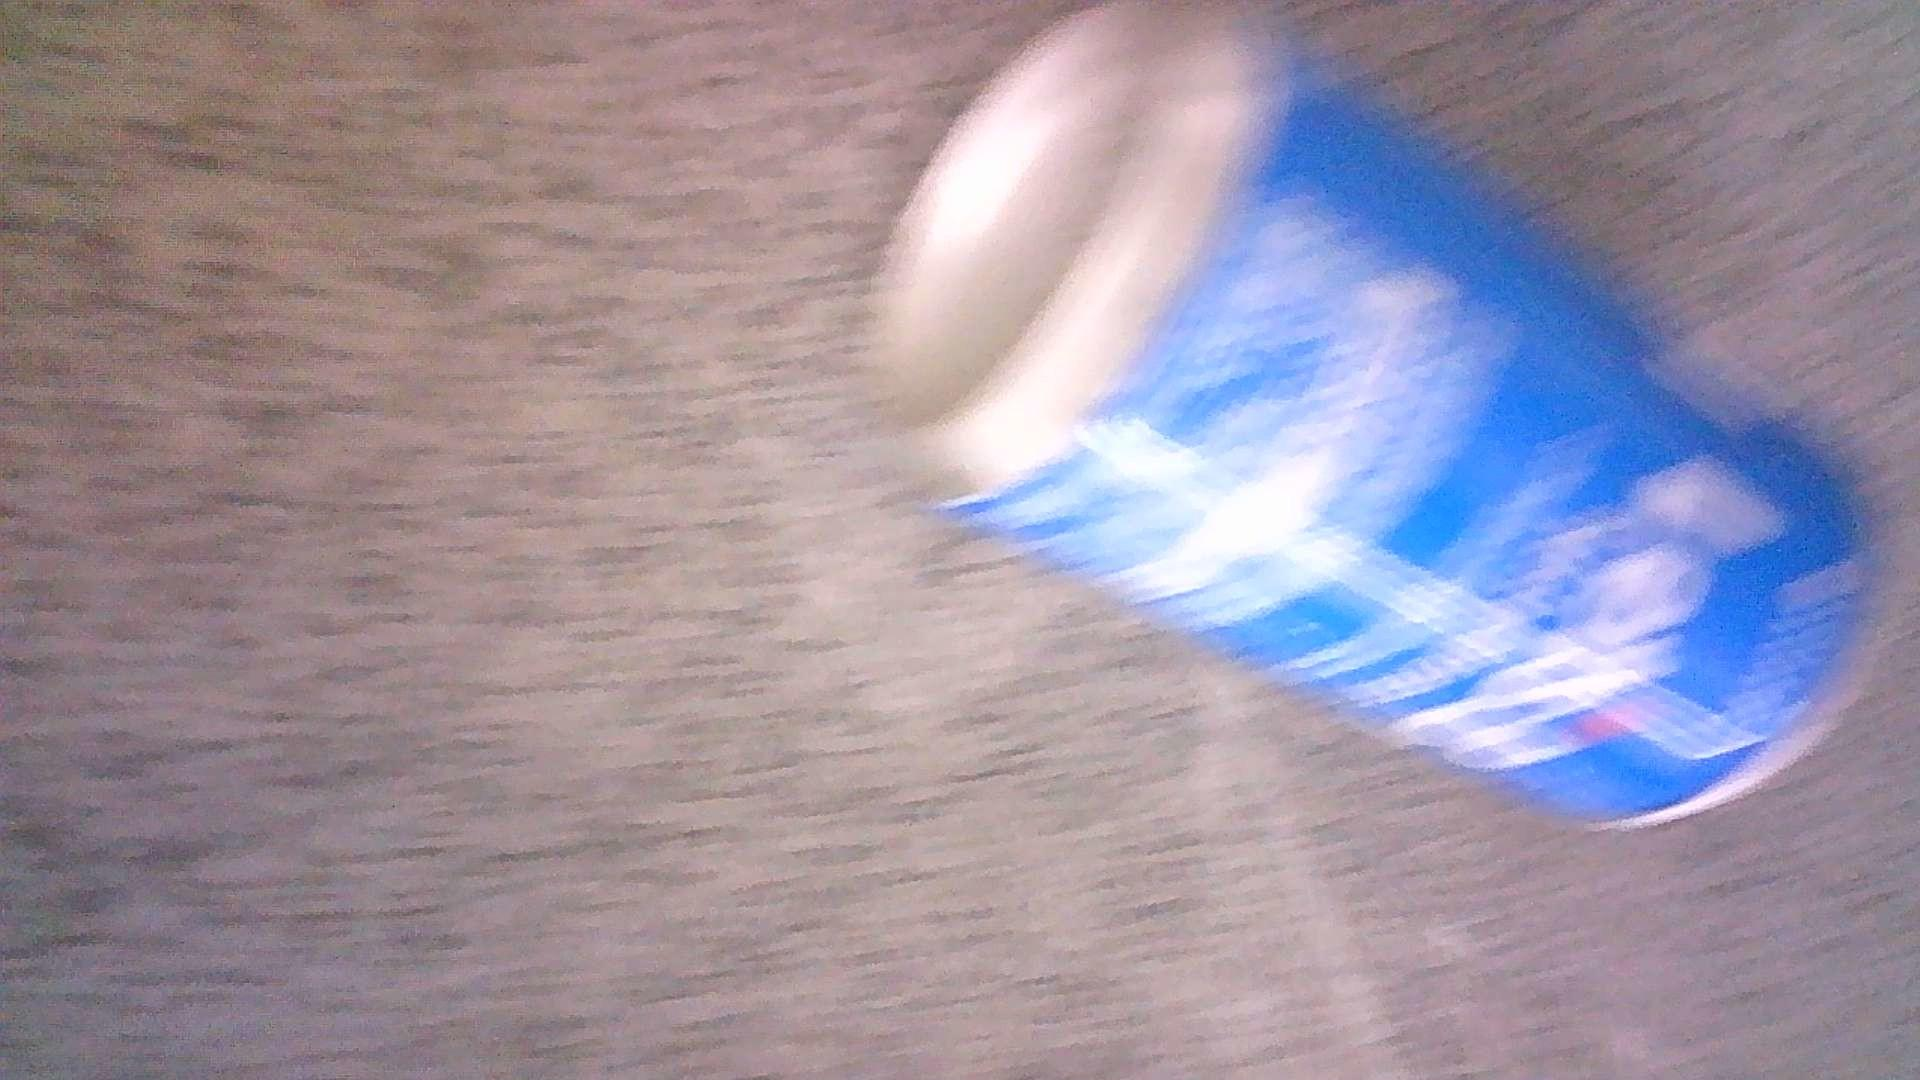letsbe: (870, 1, 1895, 831)
